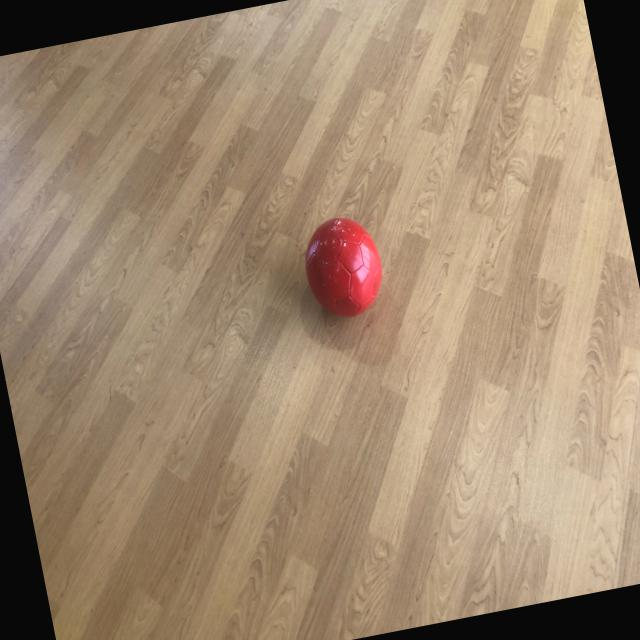red_ball: (298, 210, 392, 324)
